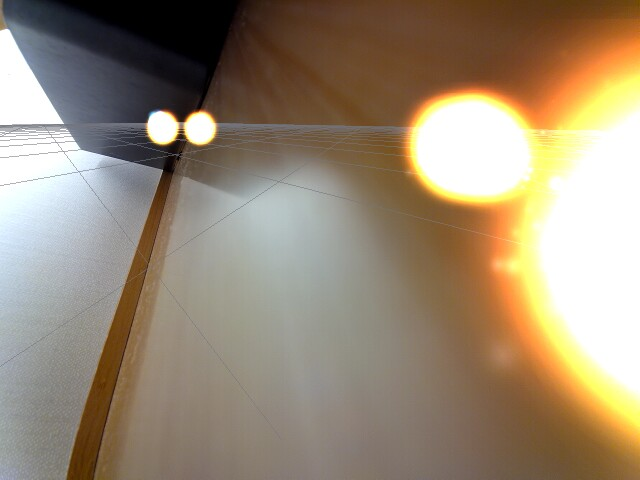firebig: (538, 36, 640, 432)
